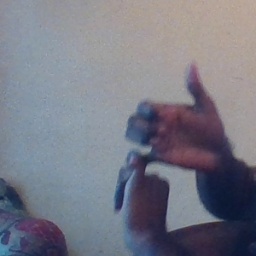S: (107, 56, 238, 235)
